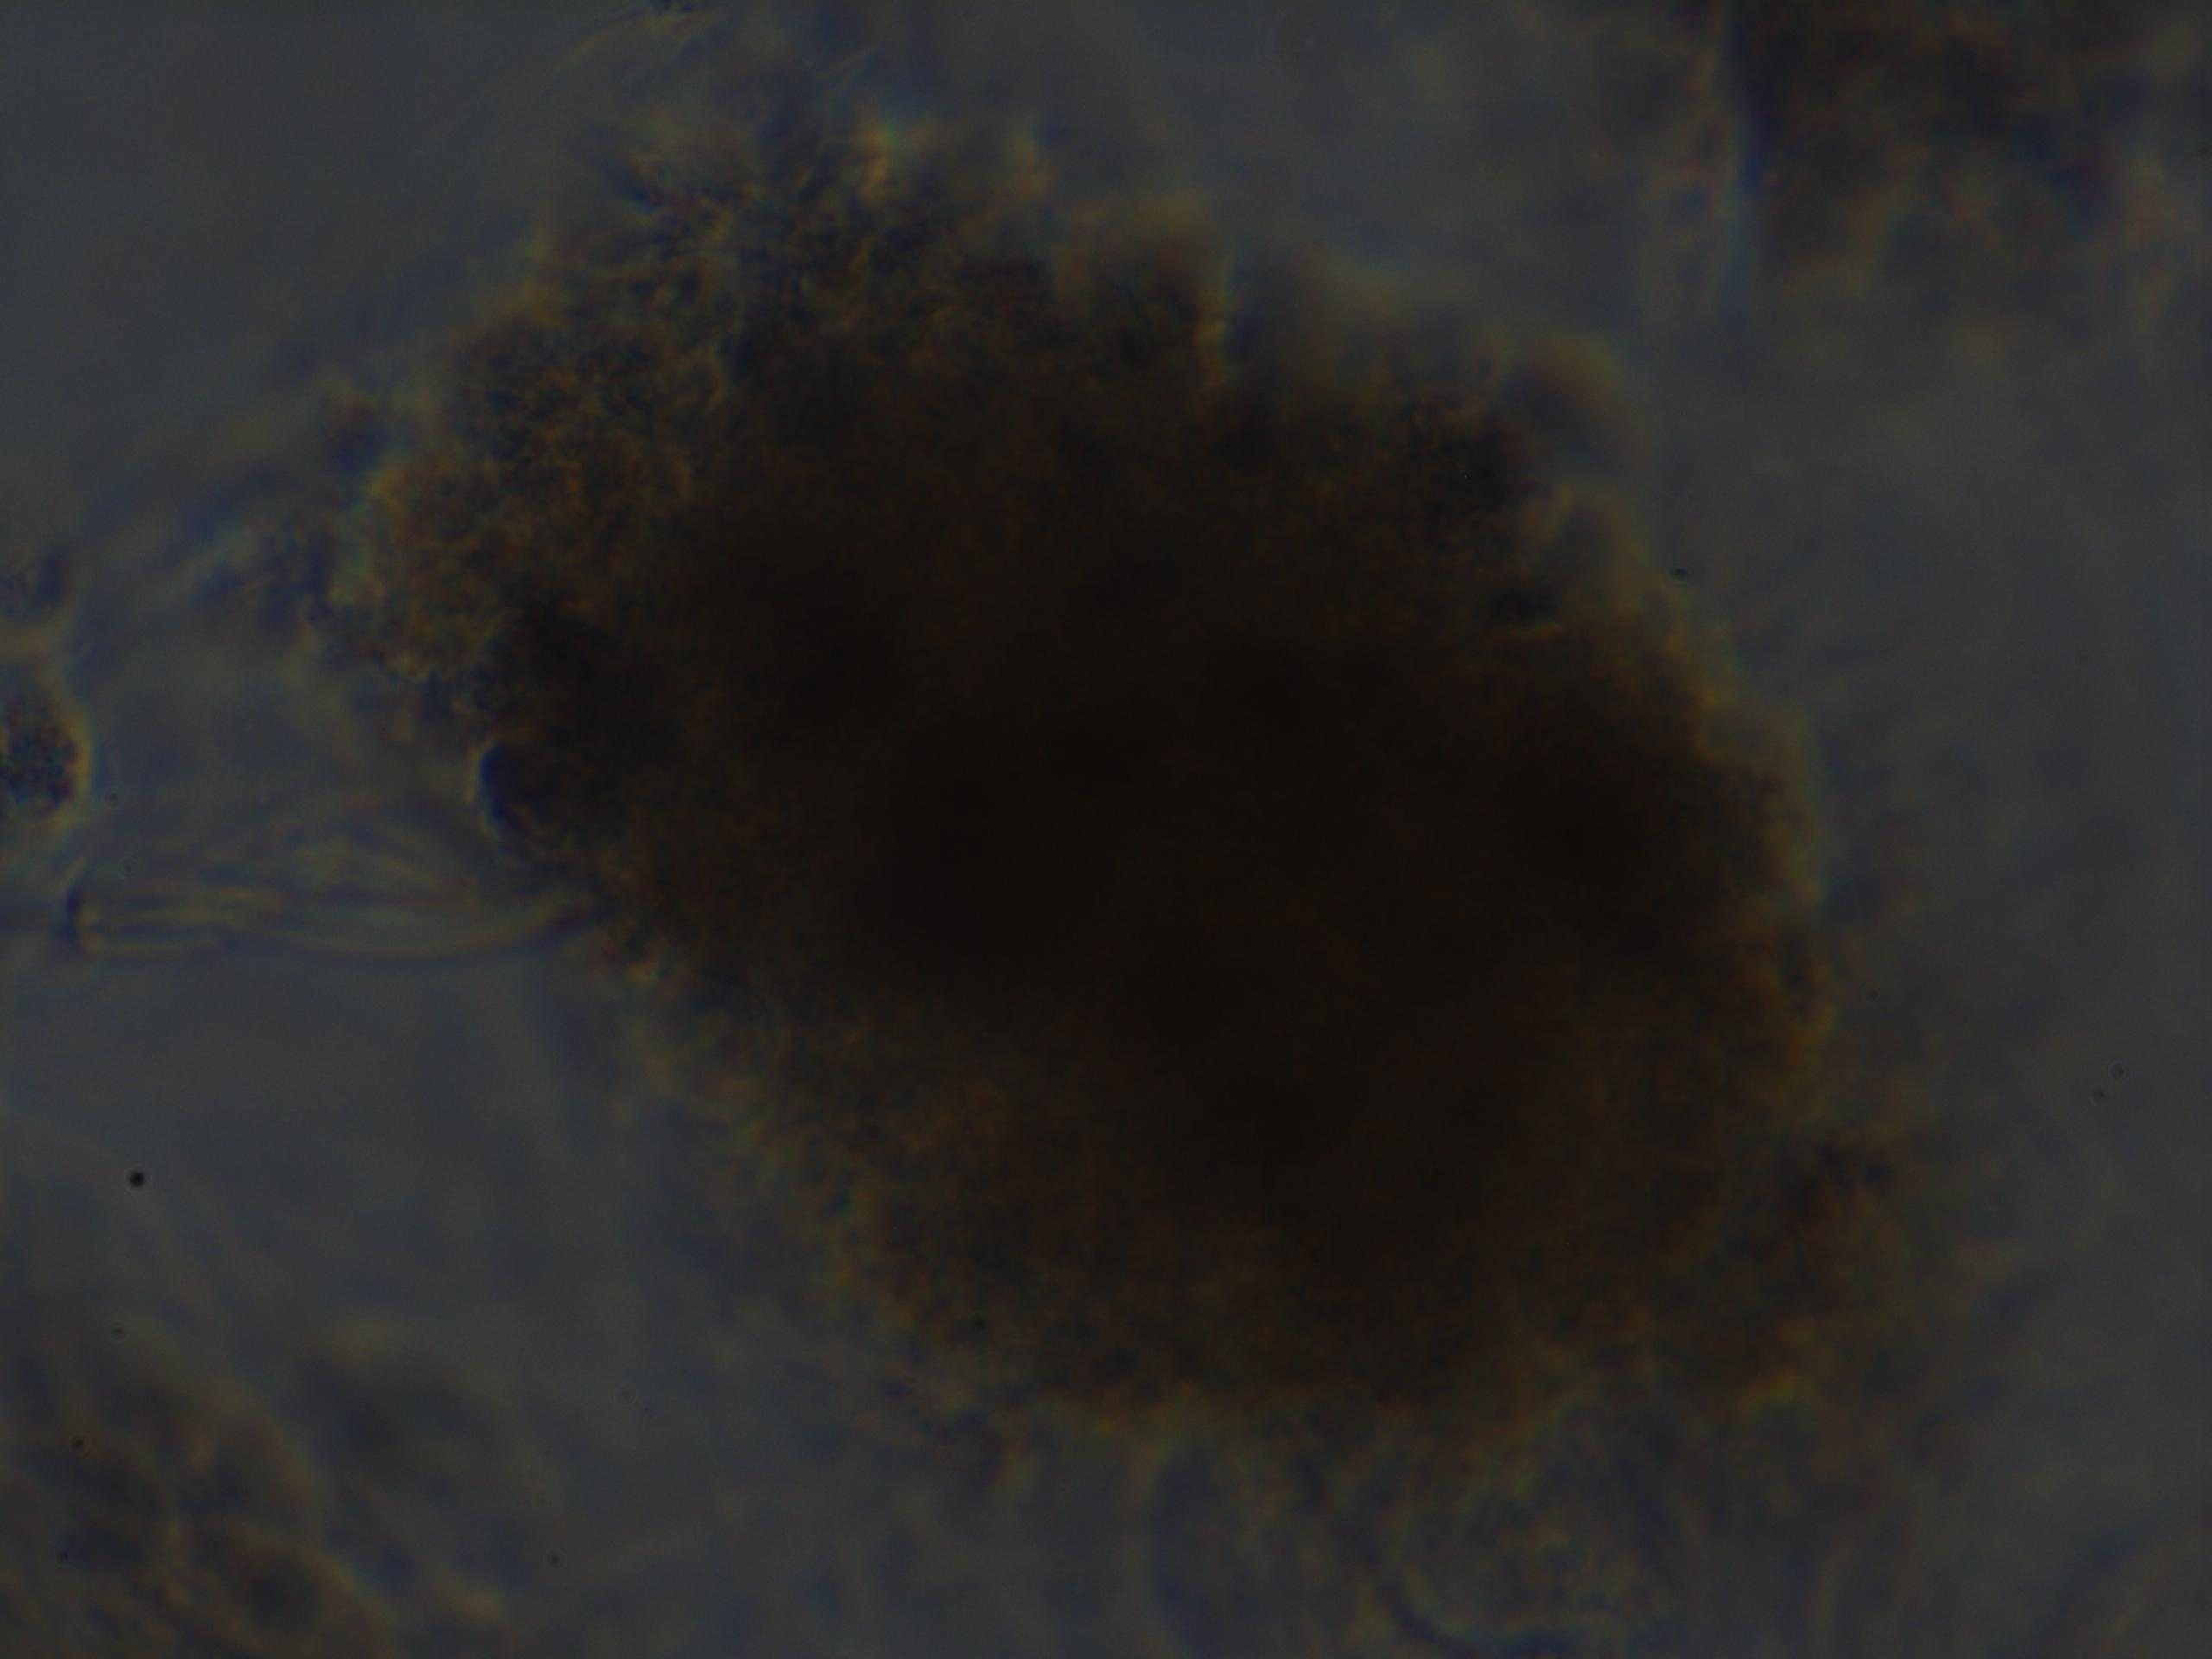filament: (56, 821, 547, 995)
spherical_floc: (425, 134, 1893, 1452)
